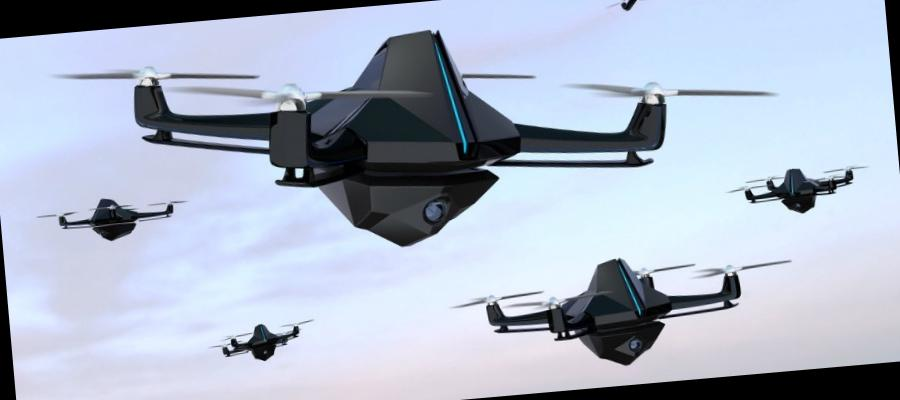drone: (66, 7, 779, 276), (442, 236, 789, 397), (725, 148, 874, 237), (31, 178, 184, 258), (207, 308, 316, 372), (595, 0, 692, 22)
